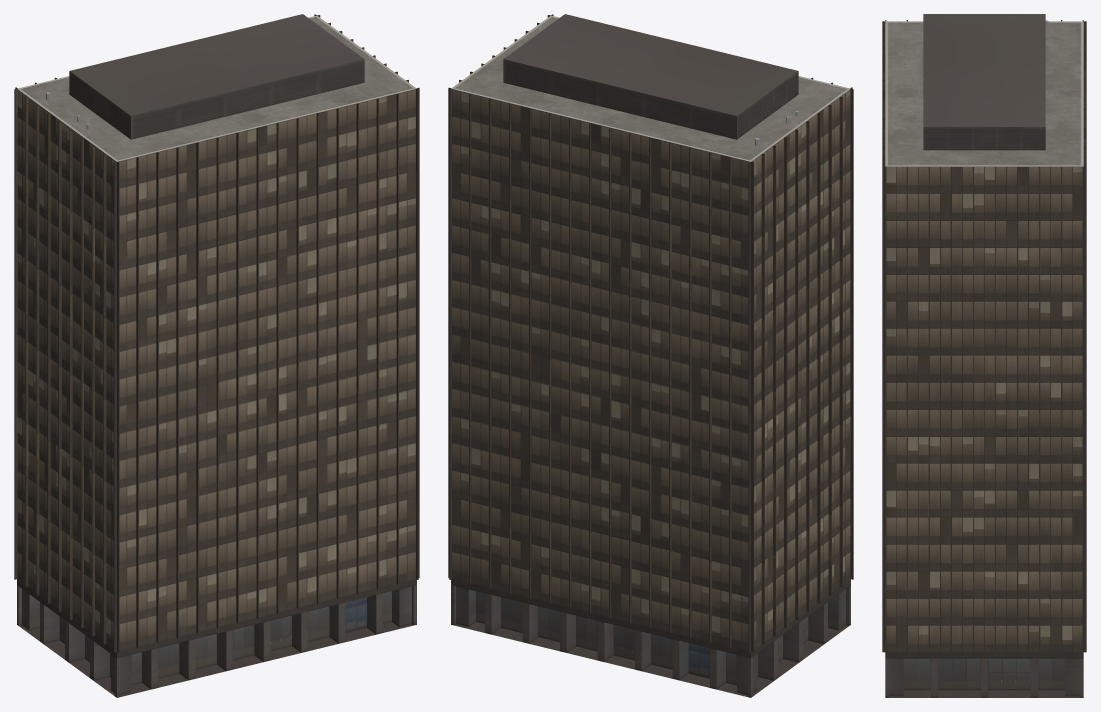
Rendered from sf_glassslab_a.glb.
The picture shows the model from 3 angles, left to right: view 1: azimuth 30°, elevation 25°; view 2: azimuth 150°, elevation 25°; view 3: azimuth 270°, elevation 25°; orthographic projection.
Parts seen in each view (by area): view 1: sf_glassslab_a; view 2: sf_glassslab_a; view 3: sf_glassslab_a.
Boxes of the visible parts, left/top/right/bottom form: sf_glassslab_a: left=14, top=14, right=419, bottom=697; sf_glassslab_a: left=448, top=14, right=853, bottom=697; sf_glassslab_a: left=882, top=14, right=1086, bottom=697.
Bounding box in the file's own units: 45.8 × 80.2 × 26.8.
Materials: 1 (1 with a texture image).
